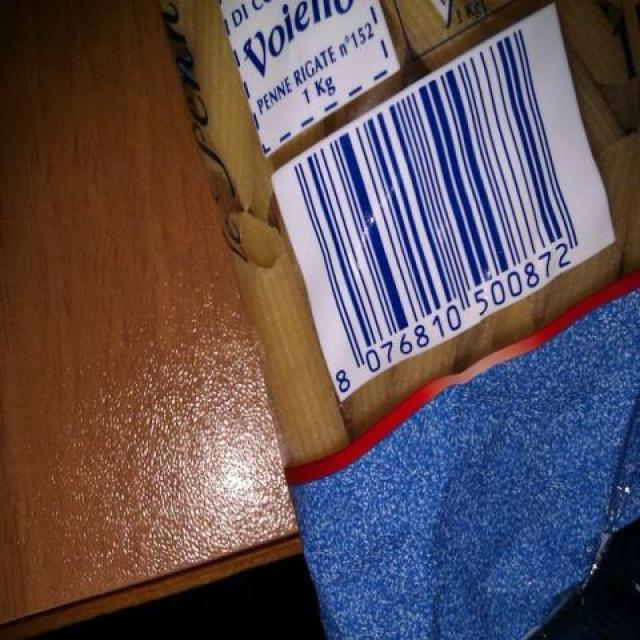Barcode: (271, 11, 617, 404)
